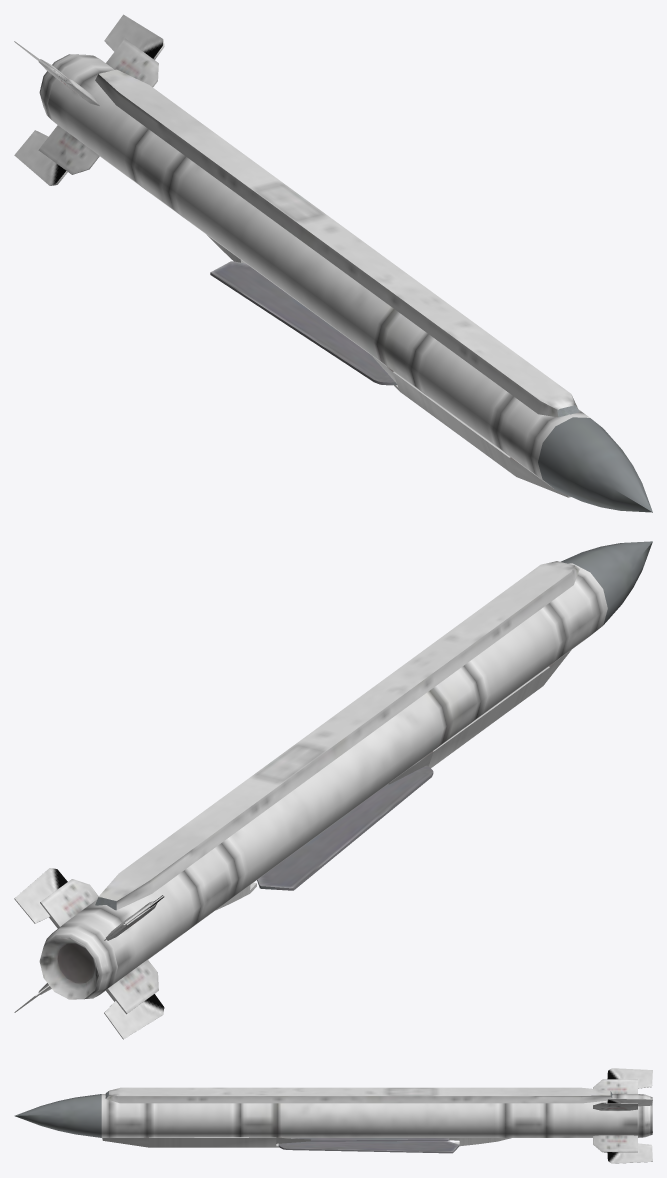
3 views of the same model, one above another, from view 1: azimuth 30°, elevation 25°; view 2: azimuth 150°, elevation 25°; view 3: azimuth 270°, elevation 25° (orthographic). The views are drawn at different scales.
Parts seen in each view (by area): view 1: obj2; view 2: obj2; view 3: obj2.
Boxes of the visible parts, x1,y1,x2,y2 form: obj2: [14, 14, 652, 512]; obj2: [14, 541, 652, 1039]; obj2: [14, 1068, 652, 1163].
Bounding box in the file's own units: 79.91 × 79.78 × 706.
Materials: 1 (1 with a texture image).
